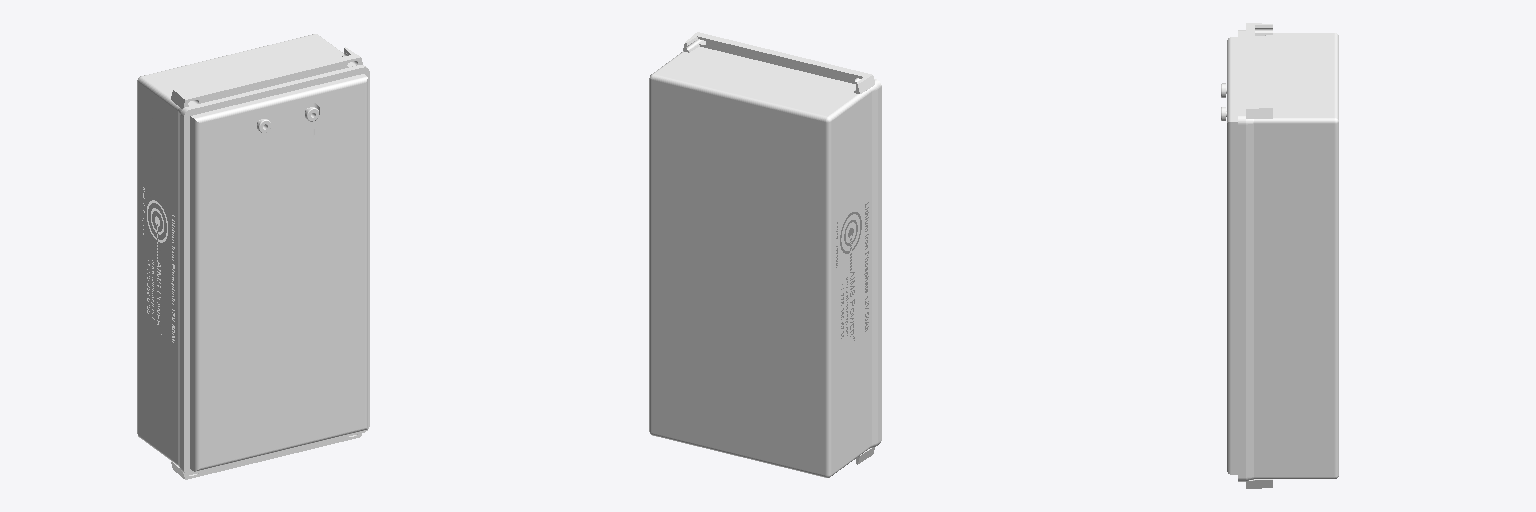
The model's file is LifePo4_12V50Ah_1.obj.
3 renders of one model, left to right at view 1: azimuth 30°, elevation 25°; view 2: azimuth 150°, elevation 25°; view 3: azimuth 270°, elevation 25°, orthographic.
Size of the model in its own units: 0.2946 by 0.5768 by 0.1622.